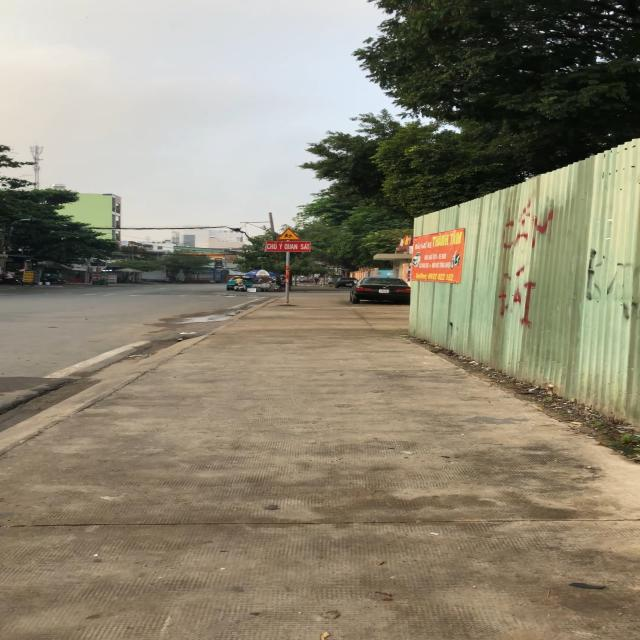Bien bao tre em: (275, 226, 301, 241)
